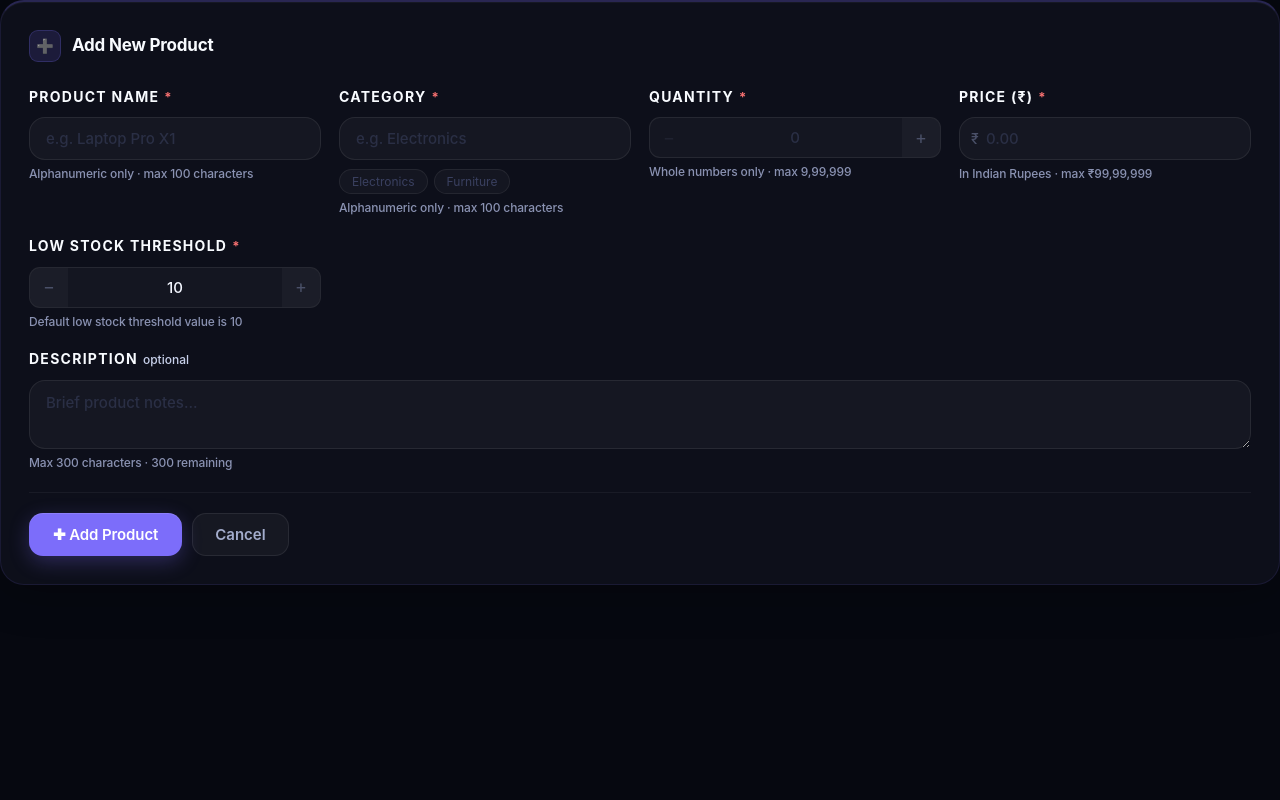
Page Load — ProductForm › shows validation error when submitting empty form
The image size is (1280, 800).
Click the button "✚ Add Product": point(106, 534) top-left (29, 513), bottom-right (182, 556)
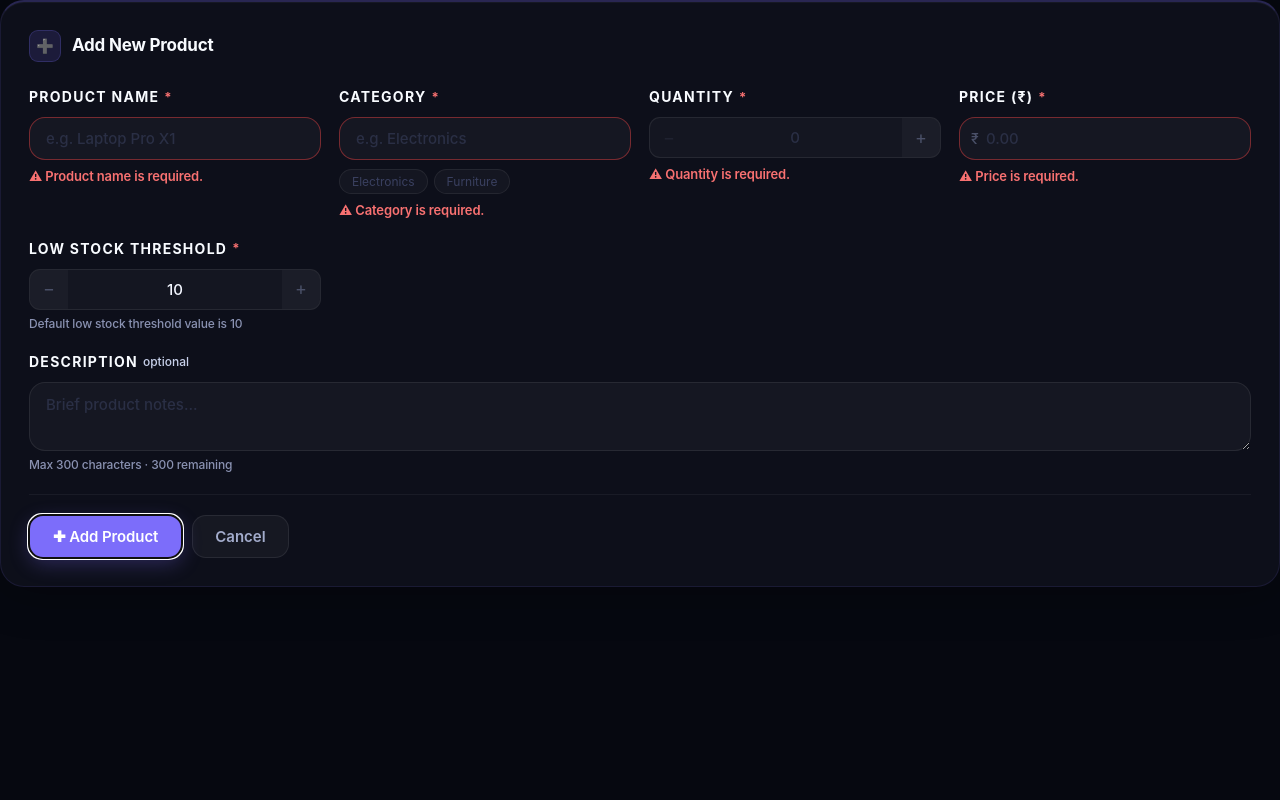
Expected: the text "⚠ Product name is required." is shown, top-left (29, 168), bottom-right (203, 184)
